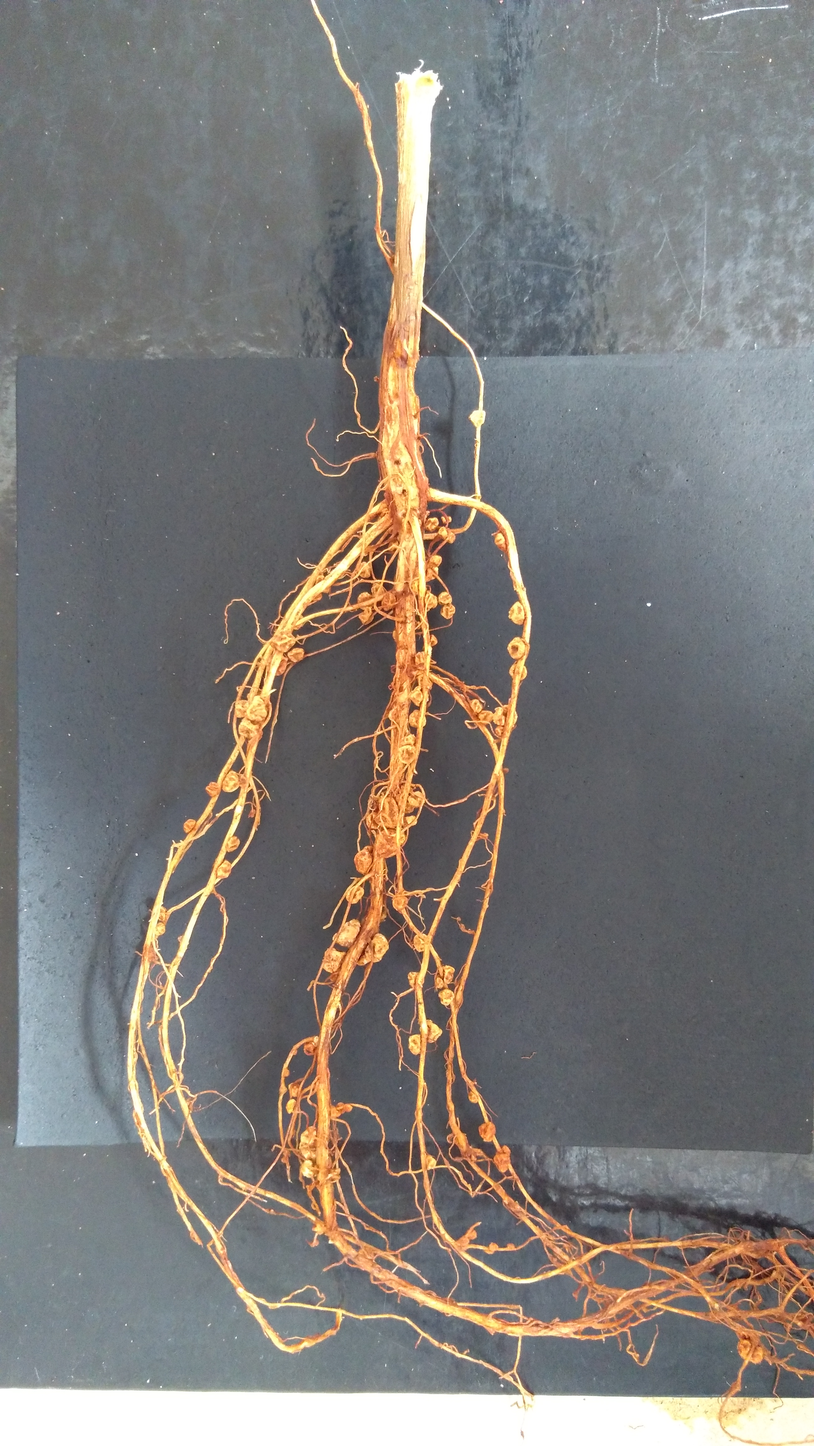nodule: (374, 828, 407, 861), (331, 918, 362, 948), (373, 795, 399, 829), (735, 1337, 765, 1366), (364, 932, 390, 964), (321, 944, 348, 974), (268, 628, 298, 653), (298, 1125, 318, 1162), (352, 845, 374, 877), (246, 694, 268, 724), (237, 717, 264, 740), (505, 636, 527, 662), (493, 1143, 512, 1173), (424, 554, 443, 583), (505, 660, 530, 682), (425, 1017, 444, 1045), (507, 600, 525, 627), (221, 769, 240, 794), (395, 792, 416, 814), (477, 1120, 497, 1143), (406, 708, 427, 729), (500, 703, 518, 727), (467, 408, 488, 428), (285, 645, 306, 665), (397, 744, 417, 765), (344, 884, 364, 905), (491, 532, 509, 553), (380, 591, 398, 612), (215, 859, 233, 880), (356, 591, 375, 610), (407, 790, 426, 809), (407, 1033, 422, 1057), (357, 559, 374, 580), (409, 685, 425, 707), (412, 932, 427, 954), (440, 964, 455, 986), (437, 988, 455, 1006), (420, 633, 439, 650), (390, 895, 409, 912), (357, 1244, 376, 1261), (365, 811, 381, 831), (299, 1158, 314, 1179), (477, 708, 494, 726), (224, 835, 241, 853), (424, 515, 440, 534), (233, 699, 249, 718), (424, 590, 438, 611), (439, 603, 456, 620), (416, 673, 433, 690), (357, 610, 375, 626), (492, 706, 506, 726), (413, 650, 426, 671), (204, 780, 220, 797), (437, 590, 453, 606), (402, 814, 419, 829), (370, 583, 388, 597), (274, 658, 288, 676), (469, 697, 483, 714), (311, 1218, 325, 1235), (407, 971, 420, 989), (182, 818, 196, 834), (291, 614, 305, 630), (436, 525, 449, 542), (437, 513, 454, 526), (356, 952, 370, 967), (329, 1167, 342, 1183), (425, 1154, 437, 1171), (287, 1082, 299, 1099), (285, 1098, 296, 1116), (409, 579, 420, 596), (237, 772, 248, 789), (329, 1104, 341, 1119), (303, 1039, 316, 1052), (154, 922, 166, 936), (468, 1089, 479, 1104), (455, 1236, 470, 1247), (387, 539, 399, 552), (404, 733, 417, 745), (447, 530, 457, 545), (158, 906, 167, 922), (177, 935, 190, 946), (493, 725, 504, 737), (336, 1101, 346, 1114), (434, 976, 443, 990), (343, 1103, 354, 1114), (468, 1229, 479, 1240), (488, 1241, 500, 1251), (311, 592, 322, 602), (315, 574, 325, 585), (484, 1247, 495, 1256), (505, 1242, 517, 1250), (322, 586, 331, 595), (283, 1068, 290, 1078), (391, 630, 397, 640), (292, 1049, 298, 1057)
